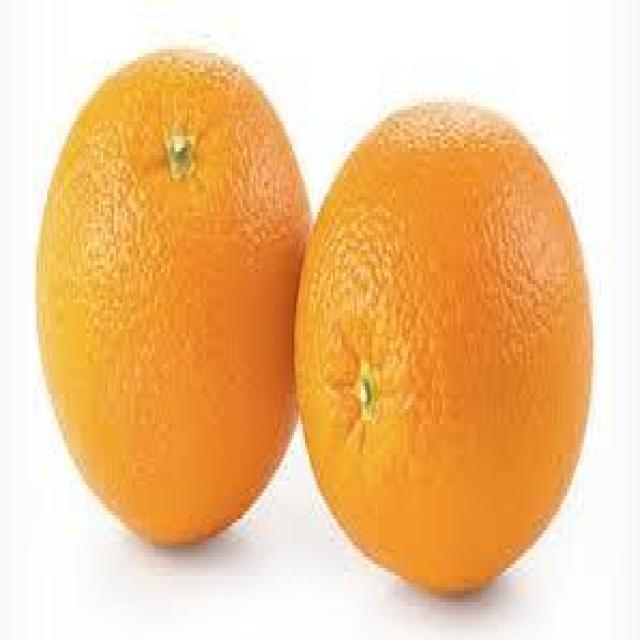organic: (34, 45, 597, 602)
